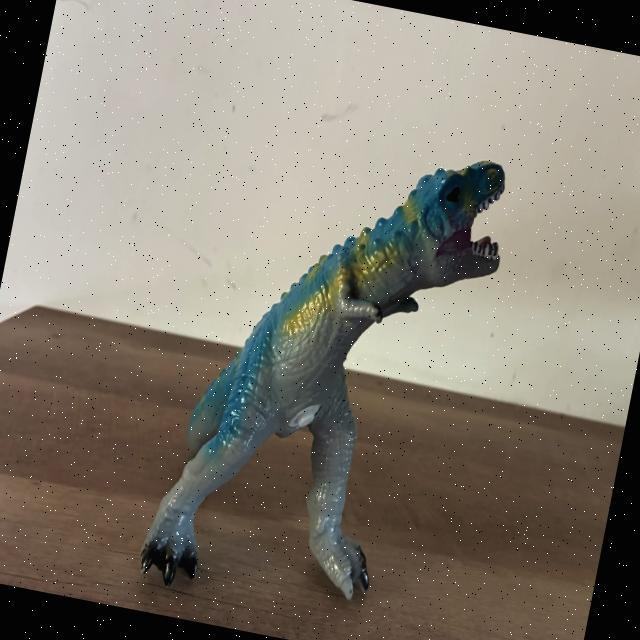dinosaur: (141, 162, 504, 599)
